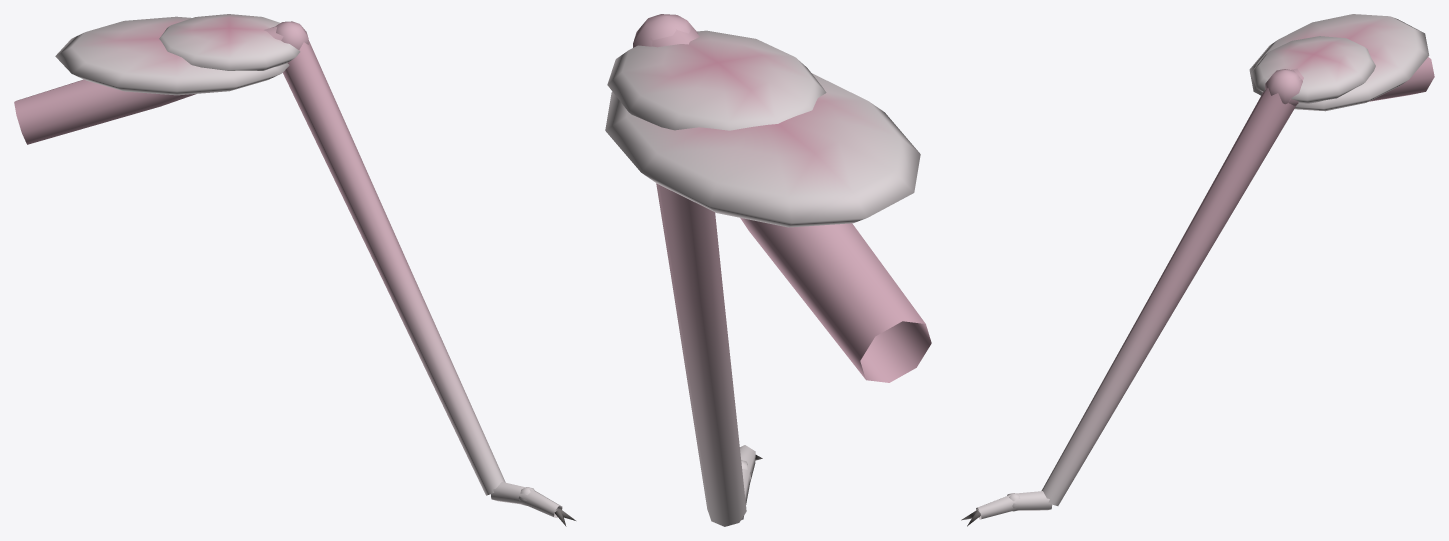
The model's file is Hanakamakiri_Leg2.fbx.
The picture shows the model from 3 angles, left to right: view 1: azimuth 30°, elevation 25°; view 2: azimuth 150°, elevation 25°; view 3: azimuth 270°, elevation 25°; orthographic projection. The views are drawn at different scales.
Parts seen in each view (by area): view 1: Hanakamakiri_Leg2; view 2: Hanakamakiri_Leg2; view 3: Hanakamakiri_Leg2.
Boxes of the visible parts, x1,y1,x2,y2 form: Hanakamakiri_Leg2: (14,14,575,526); Hanakamakiri_Leg2: (605,14,931,526); Hanakamakiri_Leg2: (961,14,1434,526).
Bounding box in the file's own units: 0.3516 × 0.4094 × 0.4414.
